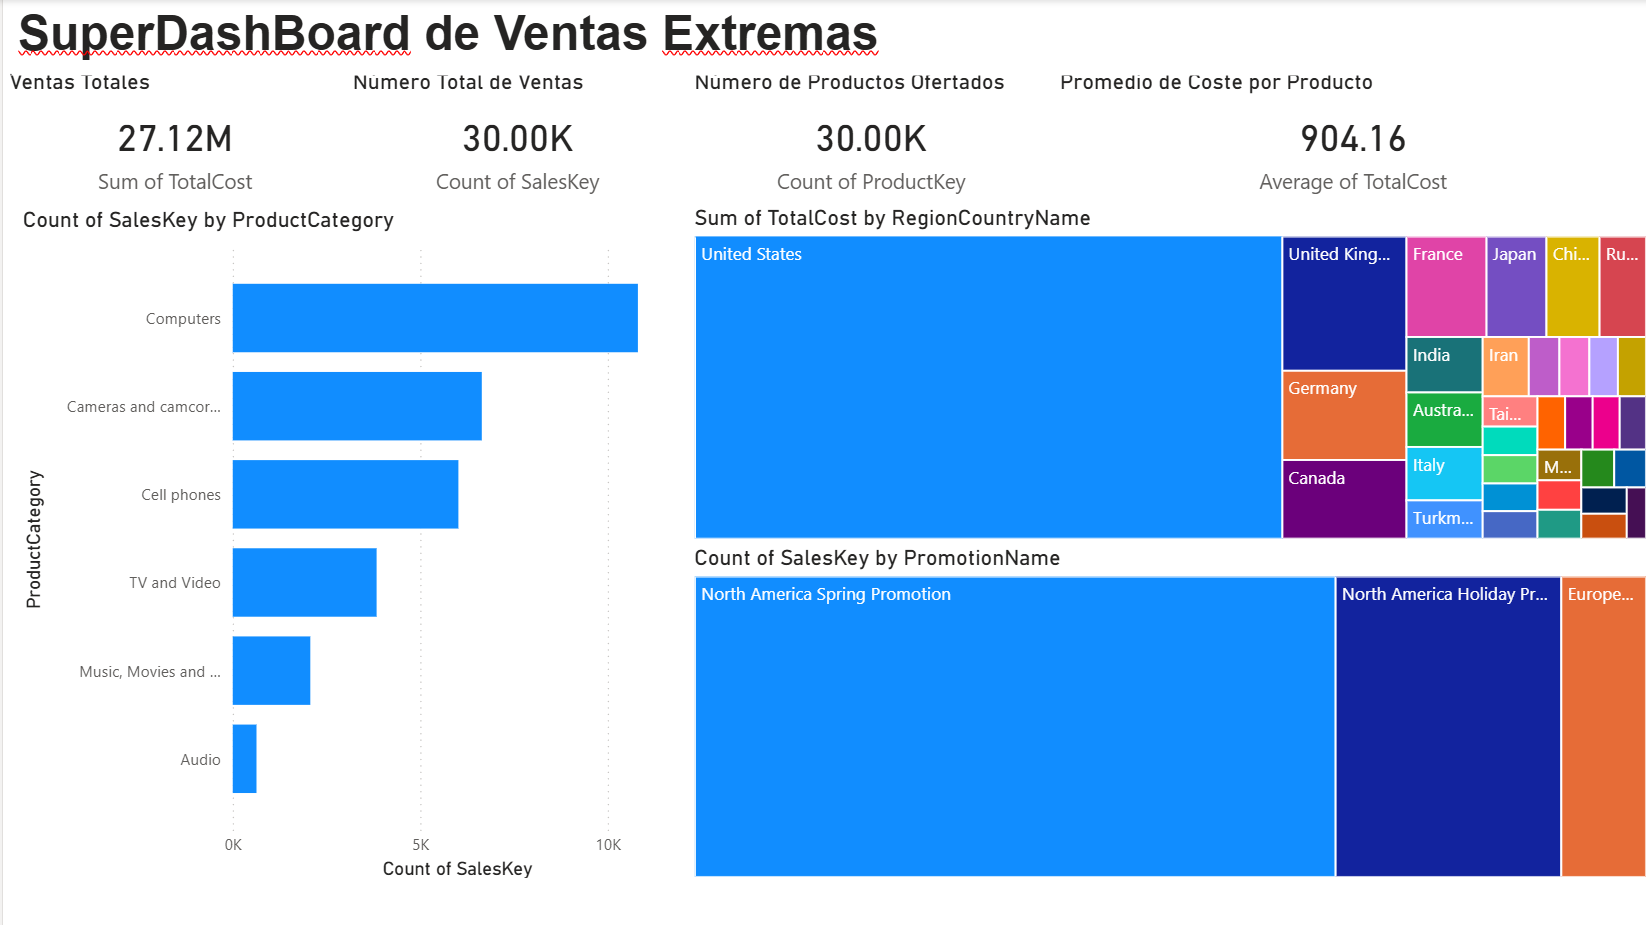

The page's visual inventory and layout, read from the dashboard file:
{"tool":"powerbi","page":{"name":"Page 1","canvas":[1280,720],"ordinal":0},"visuals":[{"type":"clusteredBarChart","fields":{"Y":["CountNonNull(Query1.SalesKey)"],"Category":["Query1.ProductCategory"]},"box":[10.6,161,531.7,526.4],"z":0},{"type":"treemap","fields":{"Values":["CountNonNull(Query1.SalesKey)"],"Group":["Query1.PromotionName"]},"box":[531.7,423.5,748.1,262.6],"z":1000},{"type":"card","title":"Ventas Totales","fields":{"Values":["Sum(Query1.TotalCost)"]},"box":[0,54.1,266.5,105.6],"z":2000},{"type":"card","title":"Número Total de Ventas","fields":{"Values":["CountNonNull(Query1.SalesKey)"]},"box":[266.5,54.1,265.2,105.6],"z":3000},{"type":"treemap","fields":{"Values":["Sum(Query1.TotalCost)"],"Group":["Query1.RegionCountryName"]},"box":[531.7,159.6,748.1,263.9],"z":4000},{"type":"card","title":"Número de Productos Ofertados","fields":{"Values":["CountNonNull(Query1.ProductKey)"]},"box":[531.7,54.1,283.7,105.6],"z":5000},{"type":"card","title":"Promedio de Coste por Producto","fields":{"Values":["Avg(Query1.TotalCost)"]},"box":[815.4,54.1,464.4,105.6],"z":5001},{"type":"textbox","box":[6.6,0,1273.2,59.4],"z":5002}]}

Visuals, with their boxes in screenshot pixels (x1, y1, x2, y2), scaled from the page's 1280x720 canvas onto the 1646x925 screenshot:
clusteredBarChart - CountNonNull(Query1.SalesKey) x Query1.ProductCategory: [14, 207, 697, 883]
treemap - CountNonNull(Query1.SalesKey) x Query1.PromotionName: [684, 544, 1645, 881]
"Ventas Totales" card: [0, 70, 343, 205]
"Número Total de Ventas" card: [343, 70, 684, 205]
treemap - Sum(Query1.TotalCost) x Query1.RegionCountryName: [684, 205, 1645, 544]
"Número de Productos Ofertados" card: [684, 70, 1049, 205]
"Promedio de Coste por Producto" card: [1049, 70, 1645, 205]
textbox: [8, 0, 1645, 76]
